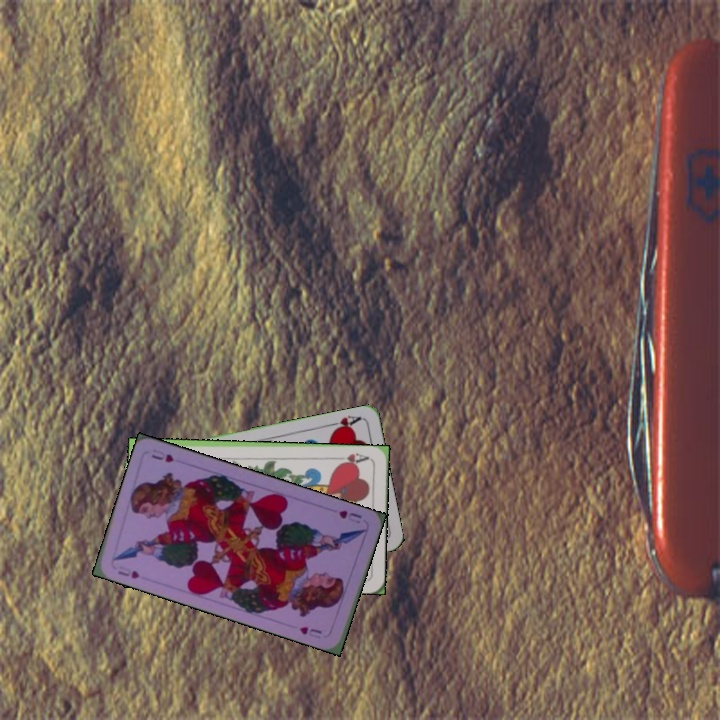HA: (323, 411, 364, 435), (332, 449, 372, 468)
HU: (334, 506, 364, 526), (114, 562, 142, 581)
